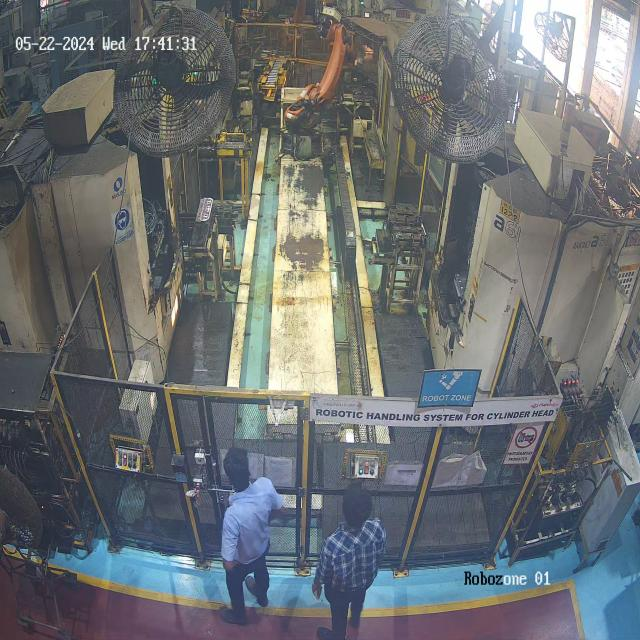person: (209, 440, 288, 632), (307, 475, 386, 640)
